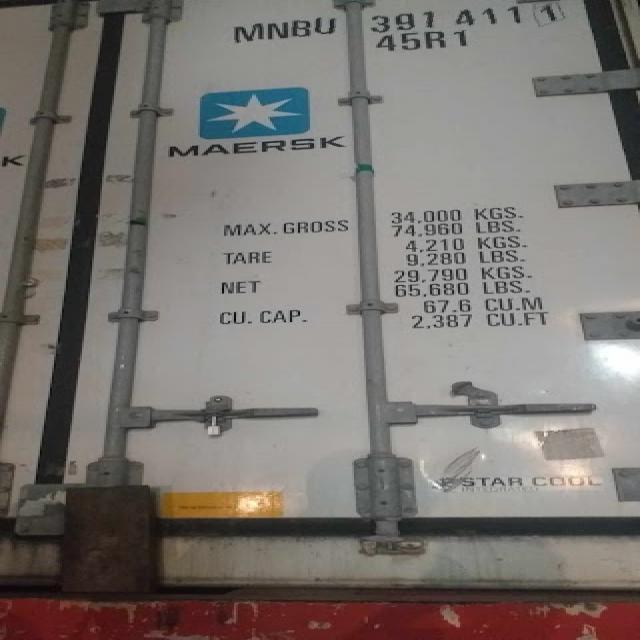ISO: (370, 27, 472, 58)
container_number: (233, 0, 569, 45)
